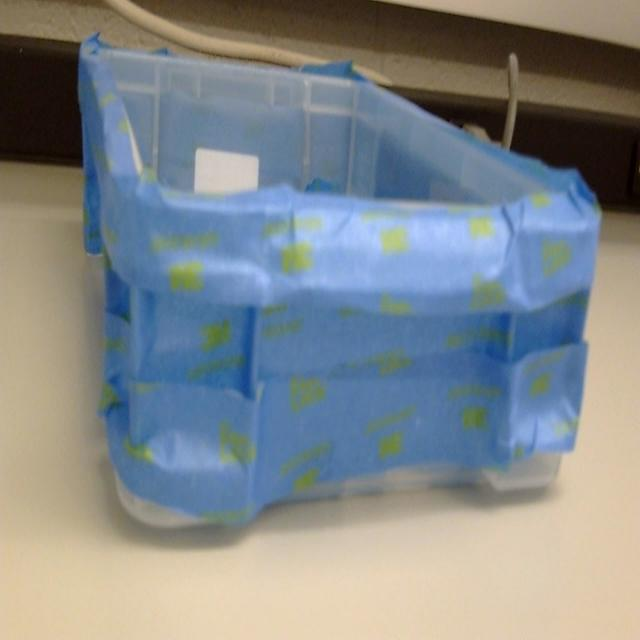bucket: (76, 34, 602, 533)
